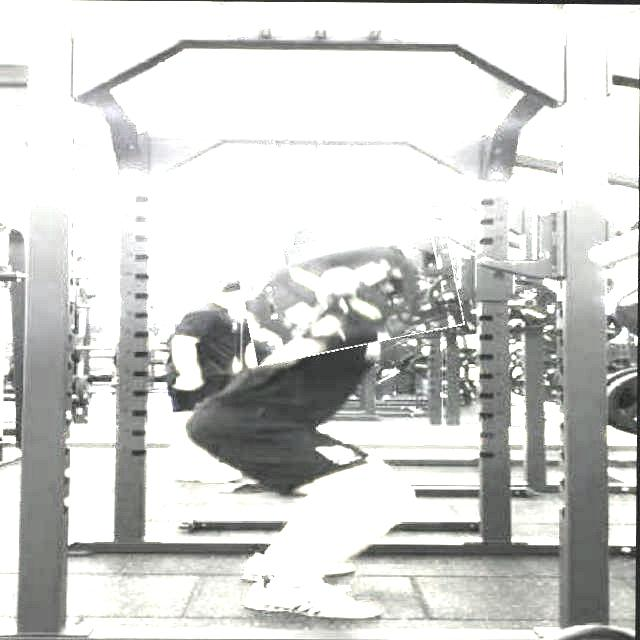barbell: (241, 226, 462, 357)
